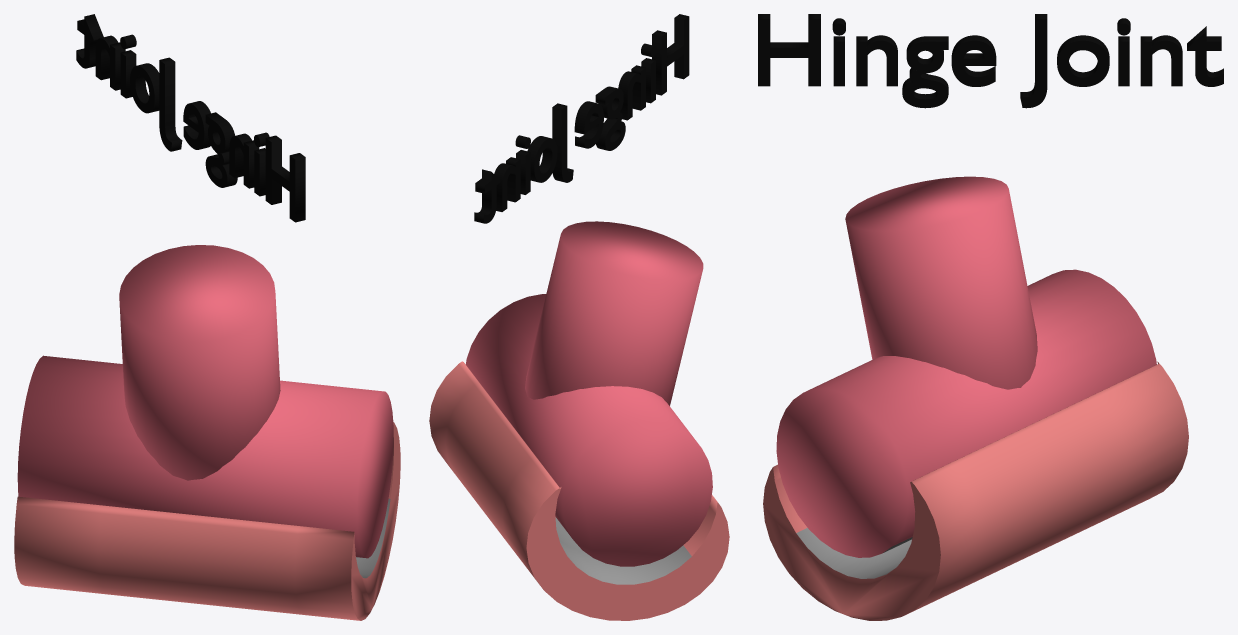
File: Hinge Joint.gltf
The picture shows the model from 3 angles, left to right: view 1: azimuth 30°, elevation 25°; view 2: azimuth 150°, elevation 25°; view 3: azimuth 270°, elevation 25°; orthographic projection. The views are drawn at different scales.
Visible parts, largest first — view 1: Cylinder.001, Cylinder.002, Text; view 2: Cylinder.001, Cylinder.002, Text; view 3: Cylinder.001, Cylinder.002, Text.
Part boxes in pixels (left/top/right/bottom): Cylinder.001: left=17, top=245, right=393, bottom=558; Cylinder.002: left=14, top=422, right=400, bottom=620; Text: left=76, top=14, right=305, bottom=222; Cylinder.001: left=466, top=221, right=712, bottom=566; Cylinder.002: left=429, top=361, right=729, bottom=620; Text: left=474, top=14, right=689, bottom=223; Cylinder.001: left=776, top=176, right=1156, bottom=557; Cylinder.002: left=763, top=361, right=1188, bottom=620; Text: left=758, top=14, right=1223, bottom=108.
Bounding box in the file's own units: 6.79 × 9.32 × 7.29.
